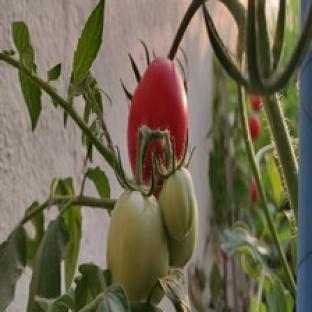Tomato: (127, 58, 188, 174), (106, 191, 168, 302), (159, 168, 197, 240), (169, 209, 197, 268), (248, 115, 260, 140), (250, 177, 259, 203), (251, 95, 261, 111)
